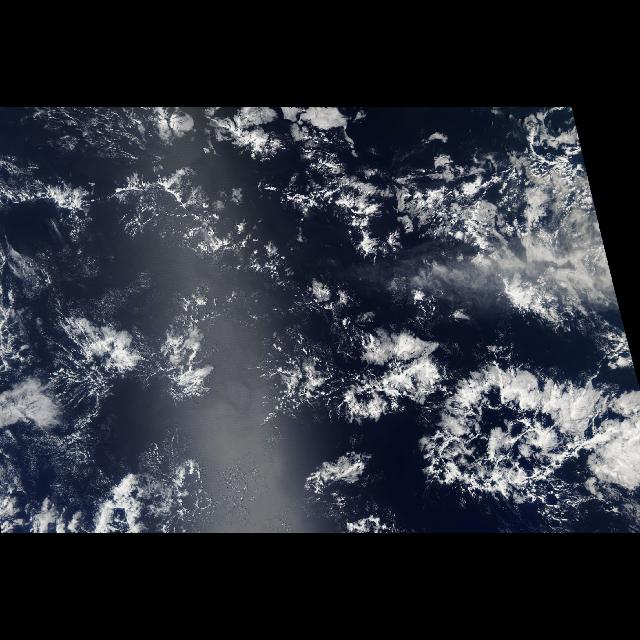Flower: (56, 279, 252, 417)
